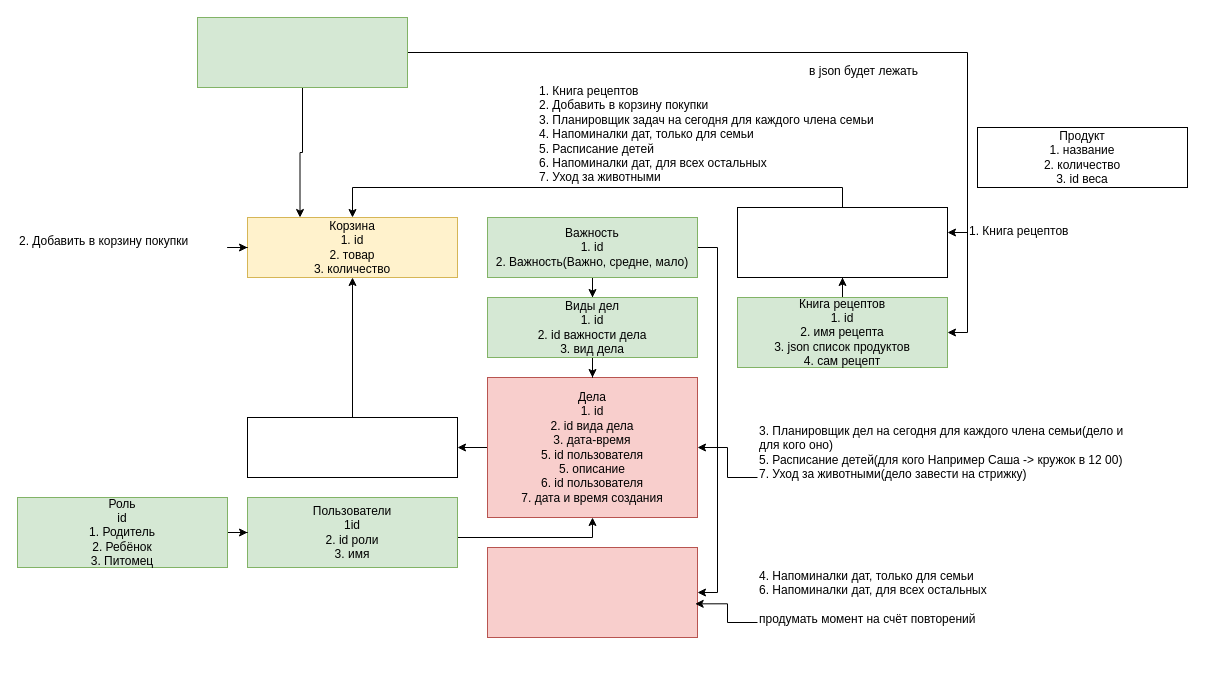
Image size: 1205x700. Some labels were removed from this diagram. Each missing label, with the box of its shape:
Виды измерения 1. ид 2. имя г кг см м мл л: (196, 16, 408, 88)
Если дело покупки: (246, 416, 458, 478)
Нажать добавить продукты в корзину: (736, 206, 948, 278)
Напоминалка даты 1. id 2. id важности 2. дата 3. событие 4. описание: (486, 546, 698, 638)
